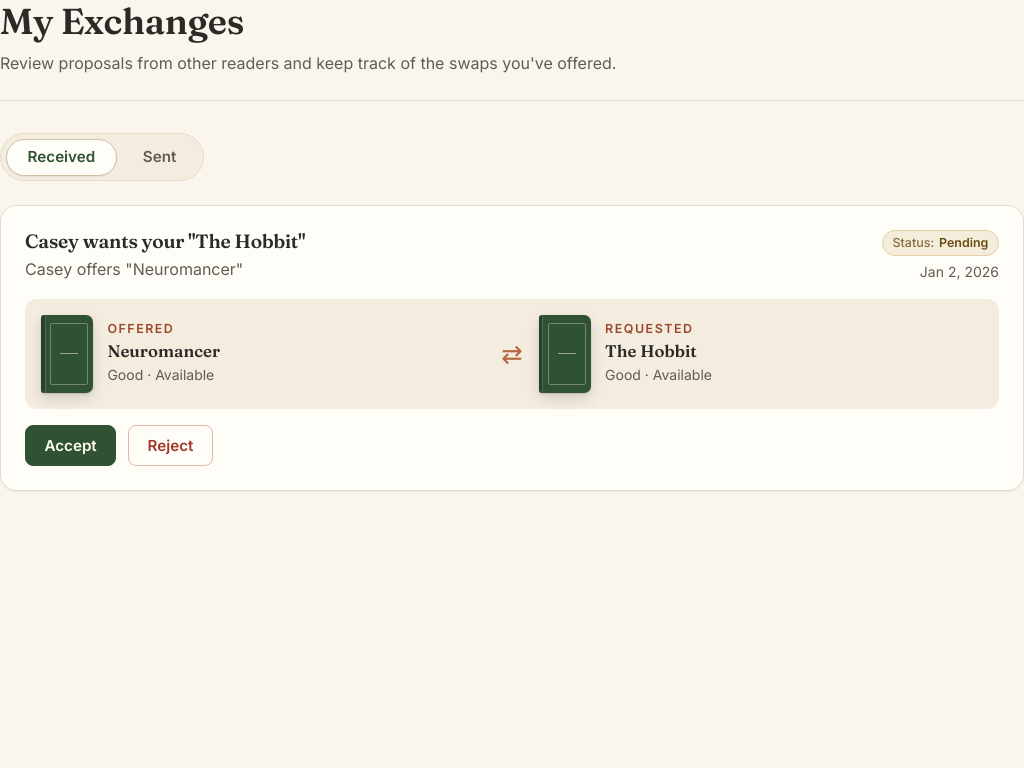
Scenario: exchange UI › confirms accept and handles conflict errors
This screenshot has width=1024, height=768.
Click the button "Accept" at (71, 446), box [25,425,116,466]
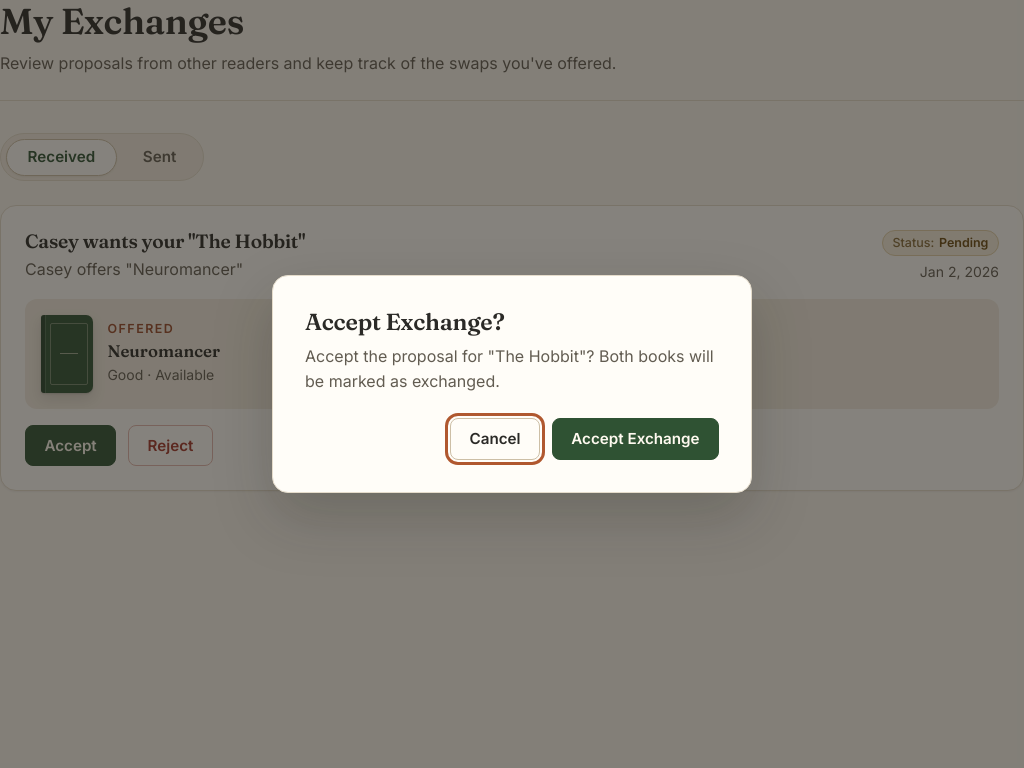
Click the button "Accept Exchange" at (635, 439), box [552,418,719,460]
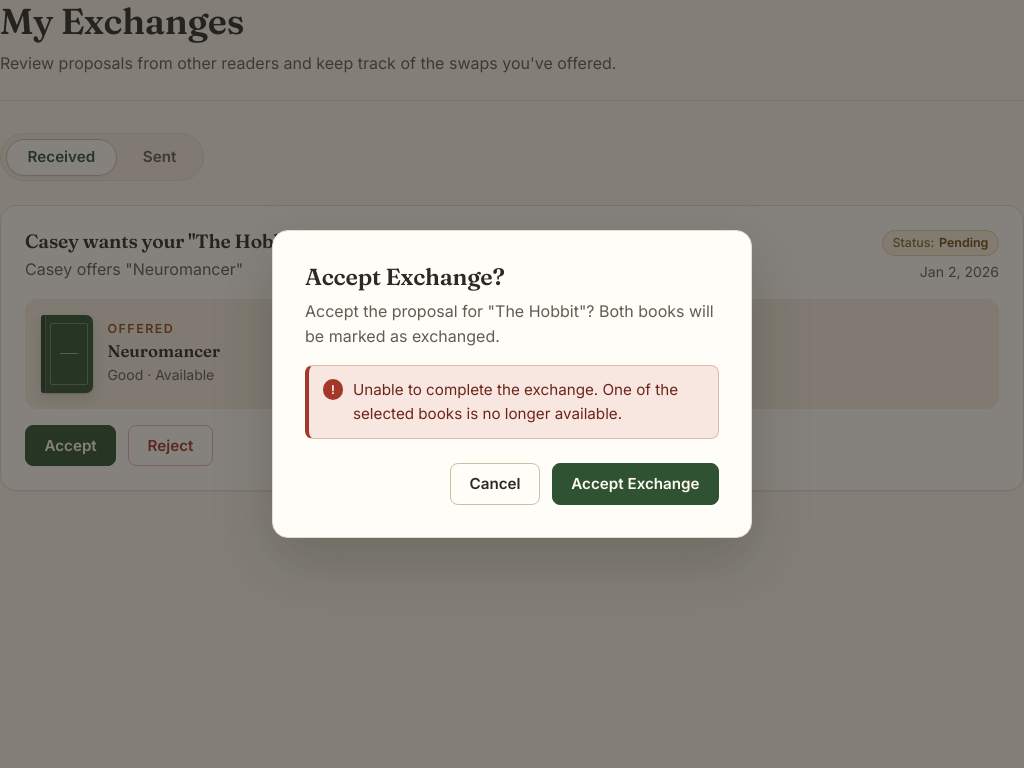
Now the text "no longer available" is shown, box [353,380,678,423]
